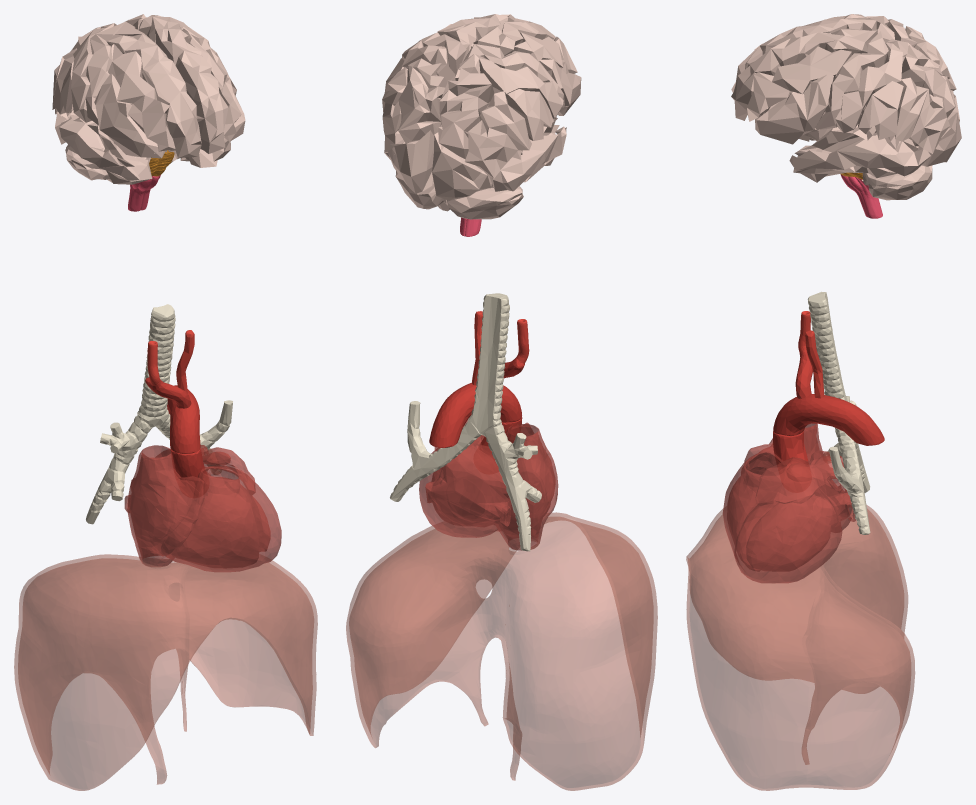
Rendered from breathcontrol.glb.
The picture shows the model from 3 angles, left to right: view 1: azimuth 30°, elevation 25°; view 2: azimuth 150°, elevation 25°; view 3: azimuth 270°, elevation 25°; orthographic projection. The views are drawn at different scales.
Parts seen in each view (by area): view 1: diaphragm, brain, heart, airway, aorta, carotid, medulla; view 2: diaphragm, brain, heart, airway, aorta, carotid; view 3: diaphragm, brain, heart, aorta, airway, carotid, medulla.
Part boxes in pixels (<box>): diaphragm: <box>14,554,317,790</box>; brain: <box>52,14,245,184</box>; heart: <box>124,445,281,572</box>; airway: <box>86,304,232,524</box>; aorta: <box>145,377,207,482</box>; carotid: <box>147,330,194,393</box>; medulla: <box>128,175,160,211</box>; diaphragm: <box>346,512,657,790</box>; brain: <box>382,14,581,219</box>; heart: <box>419,419,558,550</box>; airway: <box>390,293,541,551</box>; aorta: <box>429,357,524,460</box>; carotid: <box>472,311,529,385</box>; diaphragm: <box>686,505,915,790</box>; brain: <box>731,14,961,200</box>; heart: <box>722,423,855,583</box>; aorta: <box>773,352,884,465</box>; airway: <box>807,291,870,534</box>; carotid: <box>798,311,824,398</box>; medulla: <box>840,174,882,218</box>.
Size of the model in its own units: 0.2432 by 0.6444 by 0.2159.
